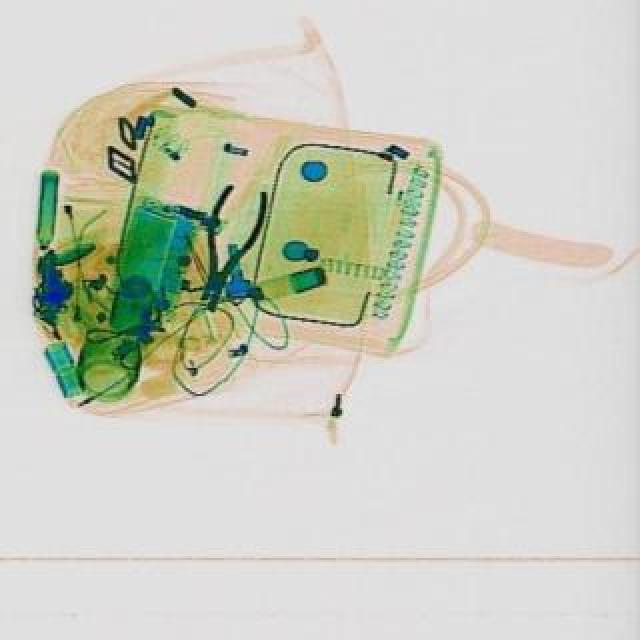wrench: (188, 180, 276, 320)
